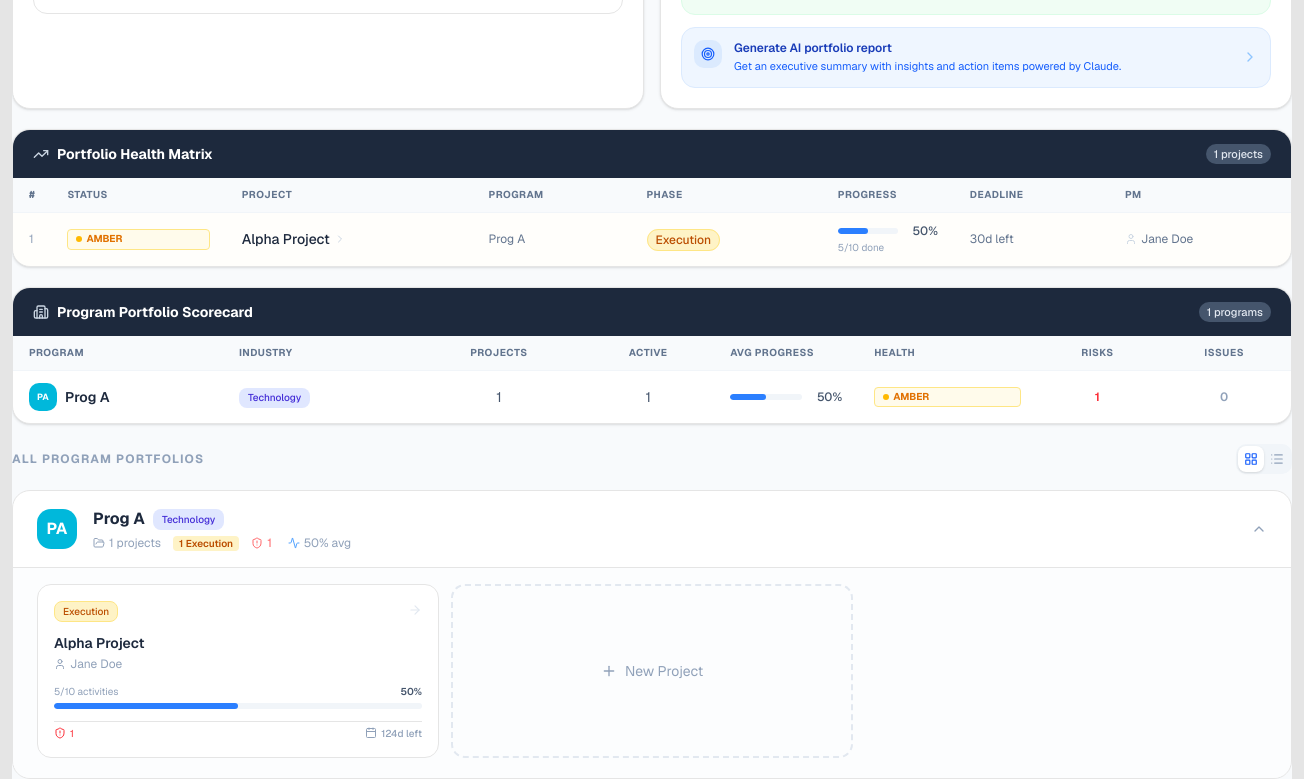
it: PortfolioHomePage › toggles view mode from cards to list
(page scrolled)
Expected: the text "Alerts" is not shown
Click the button titled "List view": {"x": 1277, "y": 459} x1=1264 y1=446 x2=1290 y2=472
(page scrolled)
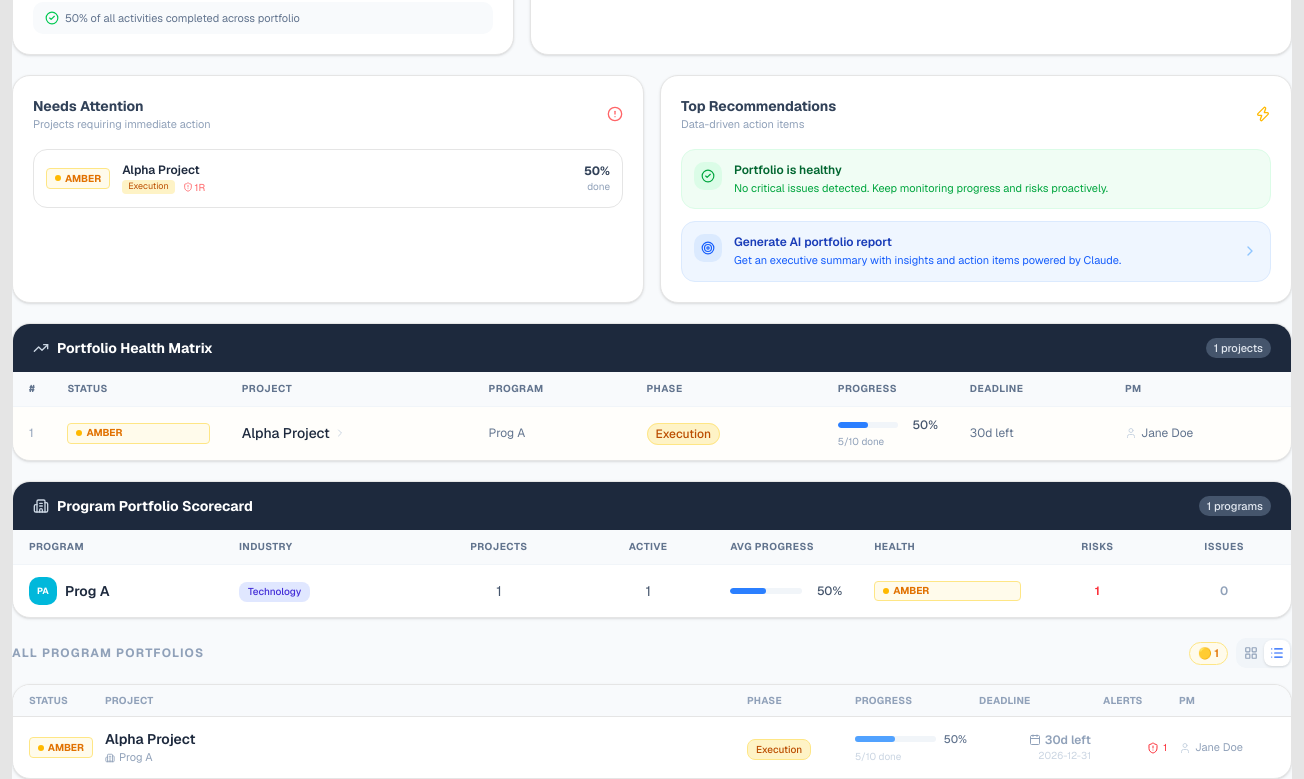
Expected: the text "Alerts" is shown, x1=1103 y1=694 x2=1143 y2=707
